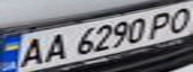0: (124, 14, 154, 43)
2: (93, 20, 115, 53)
6: (72, 25, 96, 56)
9: (109, 18, 133, 48)
A: (12, 34, 51, 70), (36, 30, 72, 63)
O: (163, 3, 193, 34)
P: (142, 8, 181, 39)
